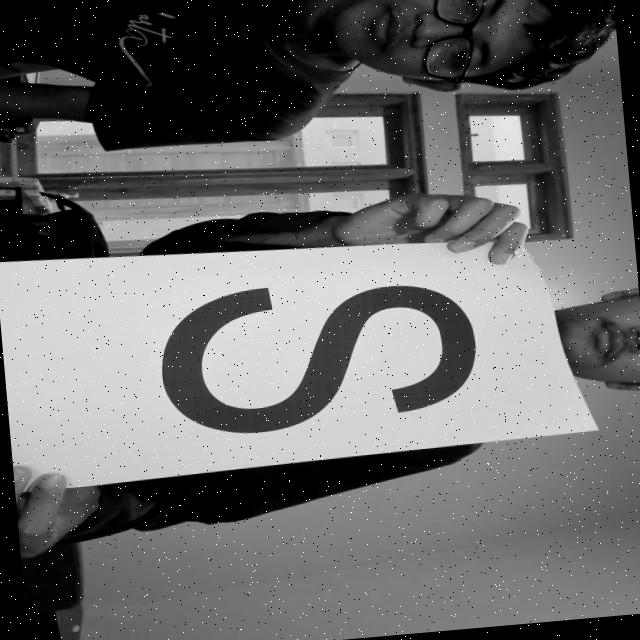s: (115, 247, 492, 454)
